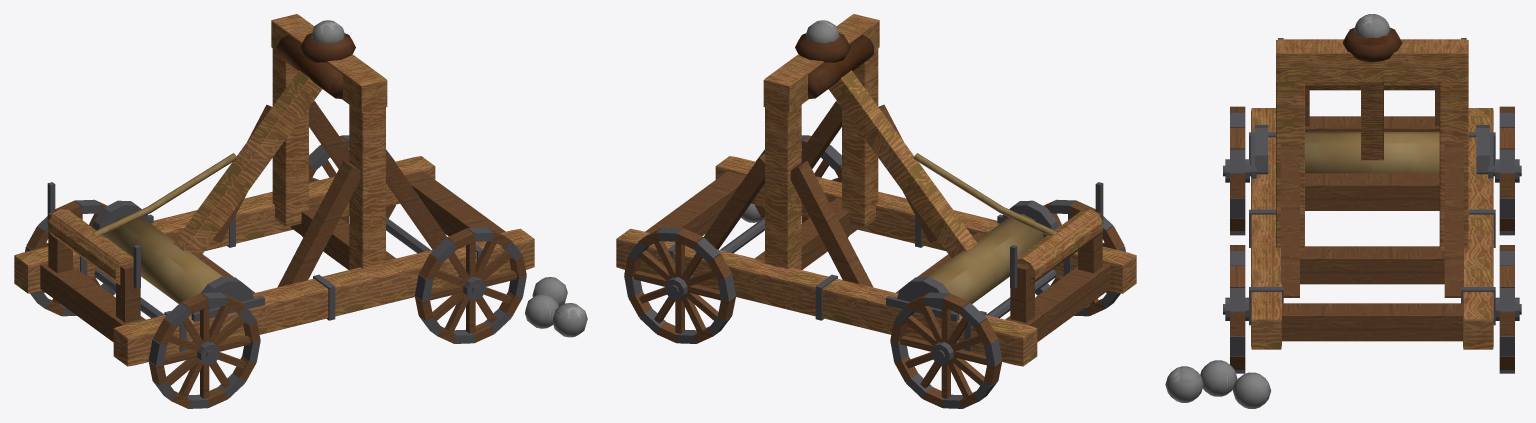
Rendered from catapult.glb.
The picture shows the model from 3 angles, left to right: view 1: azimuth 30°, elevation 25°; view 2: azimuth 150°, elevation 25°; view 3: azimuth 270°, elevation 25°; orthographic projection. The views are drawn at different scales.
Parts seen in each view (by area): view 1: box; view 2: box; view 3: box.
Part boxes in pixels (box(x1,y1,x2,y2)): box: box(14, 14, 587, 408); box: box(616, 14, 1136, 408); box: box(1165, 14, 1521, 408).
Bounding box in the file's own units: 6.41 × 4.08 × 4.24.
6 materials, 5 textured.
